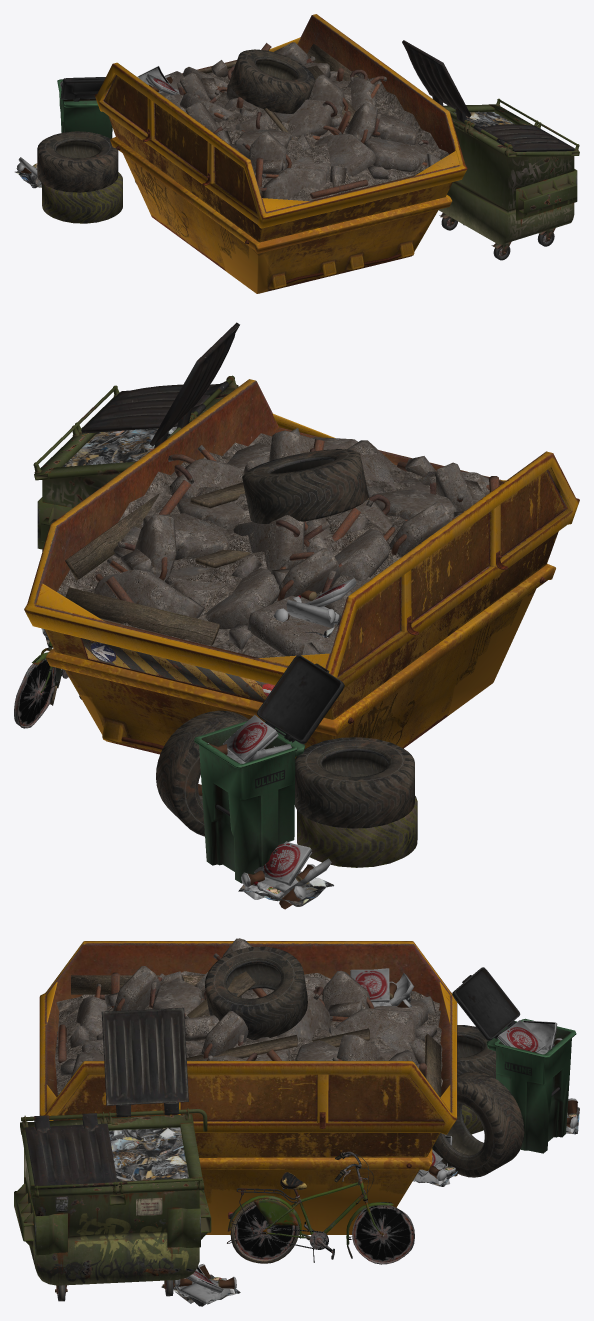
File: trash.fbx
3 views of the same model, one above another, from view 1: azimuth 30°, elevation 25°; view 2: azimuth 150°, elevation 25°; view 3: azimuth 270°, elevation 25° (orthographic). The views are drawn at different scales.
Parts seen in each view (by area): view 1: 0005_Conteiner_Untitled.000_Conteiner_0, 0004_Trash_Cube.004_Trash_0, 0014_Dumpster_Untitled_Dumpster_0, 0008_Tires_batmobile_low:group6_batmobile_low:tires_low_batm, 0009_Tires_batmobile_low:group6_batmobile_low:tires_low_batm, 0007_Tires_batmobile_low:group6_batmobile_low:tires_low_batm, 0012_TrashBin_TrashBin_Material_0, 0013_TrashBinCap_TrashBinCap_Material_0, 0015_Trash_Trash.011_Material Copy Copy Copy_0, 0011_Trash_Trash.011_Material Copy_0; view 2: 0005_Conteiner_Untitled.000_Conteiner_0, 0004_Trash_Cube.004_Trash_0, 0014_Dumpster_Untitled_Dumpster_0, 0012_TrashBin_TrashBin_Material_0, 0008_Tires_batmobile_low:group6_batmobile_low:tires_low_batm, 0009_Tires_batmobile_low:group6_batmobile_low:tires_low_batm, 0007_Tires_batmobile_low:group6_batmobile_low:tires_low_batm, 0006_Tires_batmobile_low:group6_batmobile_low:tires_low_batm, 0013_TrashBinCap_TrashBinCap_Material_0, 0011_Trash_Trash.011_Material Copy_0, 0015_Trash_Trash.011_Material Copy Copy Copy_0, 0001_Bike.002_Untitled.003_phong1_0 (+1 smaller); view 3: 0005_Conteiner_Untitled.000_Conteiner_0, 0014_Dumpster_Untitled_Dumpster_0, 0004_Trash_Cube.004_Trash_0, 0009_Tires_batmobile_low:group6_batmobile_low:tires_low_batm, 0012_TrashBin_TrashBin_Material_0, 0006_Tires_batmobile_low:group6_batmobile_low:tires_low_batm, 0003_Bike_Untitled.031_phong1_0, 0001_Bike.002_Untitled.003_phong1_0, 0013_TrashBinCap_TrashBinCap_Material_0, 0000_Bike.003_Untitled.004_phong1_0, 0015_Trash_Trash.011_Material Copy Copy Copy_0, 0017_Trash_Trash.011_Material Copy Copy Copy_0 (+3 smaller).
Boxes of the visible parts, bbox=[...] form: 0005_Conteiner_Untitled.000_Conteiner_0: bbox=[95, 14, 467, 293]; 0004_Trash_Cube.004_Trash_0: bbox=[159, 42, 448, 201]; 0014_Dumpster_Untitled_Dumpster_0: bbox=[402, 40, 579, 260]; 0008_Tires_batmobile_low:group6_batmobile_low:tires_low_batm: bbox=[37, 131, 118, 192]; 0009_Tires_batmobile_low:group6_batmobile_low:tires_low_batm: bbox=[229, 49, 315, 113]; 0007_Tires_batmobile_low:group6_batmobile_low:tires_low_batm: bbox=[42, 172, 122, 223]; 0012_TrashBin_TrashBin_Material_0: bbox=[57, 79, 112, 138]; 0013_TrashBinCap_TrashBinCap_Material_0: bbox=[61, 77, 105, 101]; 0015_Trash_Trash.011_Material Copy Copy Copy_0: bbox=[137, 66, 185, 95]; 0011_Trash_Trash.011_Material Copy_0: bbox=[15, 157, 41, 188]; 0005_Conteiner_Untitled.000_Conteiner_0: bbox=[24, 379, 579, 758]; 0004_Trash_Cube.004_Trash_0: bbox=[57, 428, 499, 657]; 0014_Dumpster_Untitled_Dumpster_0: bbox=[33, 322, 239, 551]; 0012_TrashBin_TrashBin_Material_0: bbox=[194, 721, 305, 883]; 0008_Tires_batmobile_low:group6_batmobile_low:tires_low_batm: bbox=[294, 737, 414, 828]; 0009_Tires_batmobile_low:group6_batmobile_low:tires_low_batm: bbox=[242, 449, 368, 523]; 0007_Tires_batmobile_low:group6_batmobile_low:tires_low_batm: bbox=[297, 796, 417, 867]; 0006_Tires_batmobile_low:group6_batmobile_low:tires_low_batm: bbox=[156, 710, 248, 836]; 0013_TrashBinCap_TrashBinCap_Material_0: bbox=[257, 655, 344, 744]; 0011_Trash_Trash.011_Material Copy_0: bbox=[238, 841, 333, 909]; 0015_Trash_Trash.011_Material Copy Copy Copy_0: bbox=[273, 578, 356, 637]; 0001_Bike.002_Untitled.003_phong1_0: bbox=[14, 658, 56, 728]; 0005_Conteiner_Untitled.000_Conteiner_0: bbox=[39, 941, 457, 1234]; 0014_Dumpster_Untitled_Dumpster_0: bbox=[14, 1007, 211, 1301]; 0004_Trash_Cube.004_Trash_0: bbox=[55, 938, 442, 1097]; 0009_Tires_batmobile_low:group6_batmobile_low:tires_low_batm: bbox=[205, 946, 307, 1039]; 0012_TrashBin_TrashBin_Material_0: bbox=[486, 1018, 576, 1153]; 0006_Tires_batmobile_low:group6_batmobile_low:tires_low_batm: bbox=[432, 1071, 524, 1177]; 0003_Bike_Untitled.031_phong1_0: bbox=[227, 1151, 393, 1262]; 0001_Bike.002_Untitled.003_phong1_0: bbox=[352, 1205, 414, 1264]; 0013_TrashBinCap_TrashBinCap_Material_0: bbox=[452, 967, 520, 1040]; 0000_Bike.003_Untitled.004_phong1_0: bbox=[230, 1199, 299, 1263]; 0015_Trash_Trash.011_Material Copy Copy Copy_0: bbox=[350, 968, 414, 1007]; 0017_Trash_Trash.011_Material Copy Copy Copy_0: bbox=[161, 1264, 240, 1306].
Bounding box in the file's own units: 7.24 × 3.83 × 7.83.
